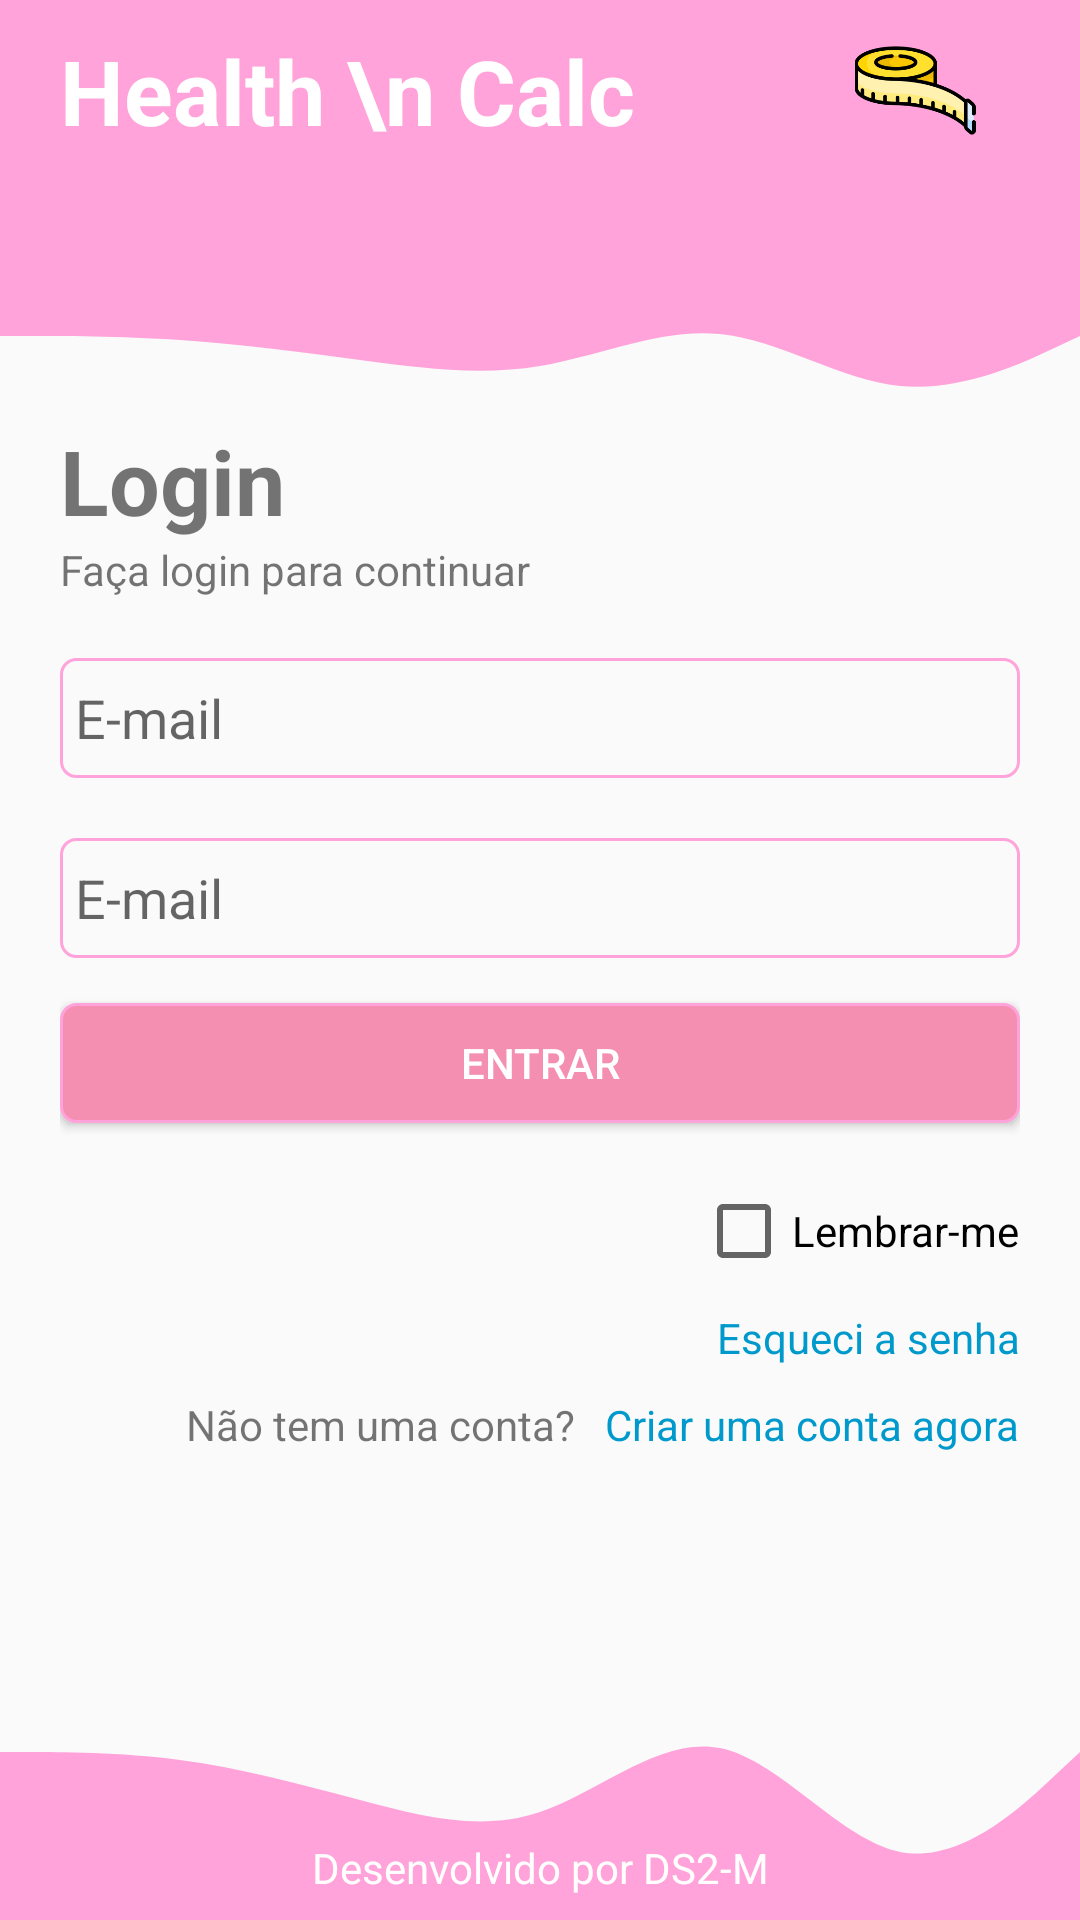

Point at icon controls on the screen. Image size 1080×1920, points as [x,y].
fita metrica: [915,90]
